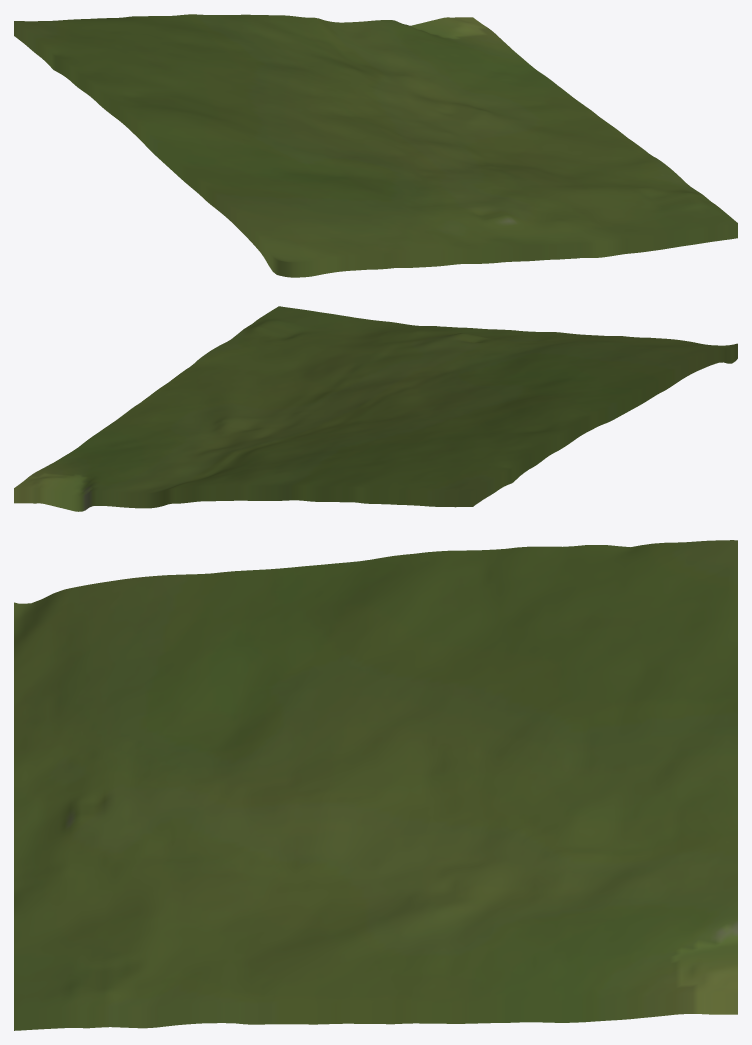
File: terrain_7_-17.glb
3 views of the same model, one above another, from view 1: azimuth 30°, elevation 25°; view 2: azimuth 150°, elevation 25°; view 3: azimuth 270°, elevation 25° (orthographic). The views are drawn at different scales.
Visible parts, largest first — view 1: terrain_7_-17; view 2: terrain_7_-17; view 3: terrain_7_-17.
Part boxes in pixels (bbox=[...]): terrain_7_-17: bbox=[14, 14, 737, 277]; terrain_7_-17: bbox=[14, 306, 737, 511]; terrain_7_-17: bbox=[14, 540, 737, 1030].
Bounding box in the file's own units: 256 × 72.1 × 256.
